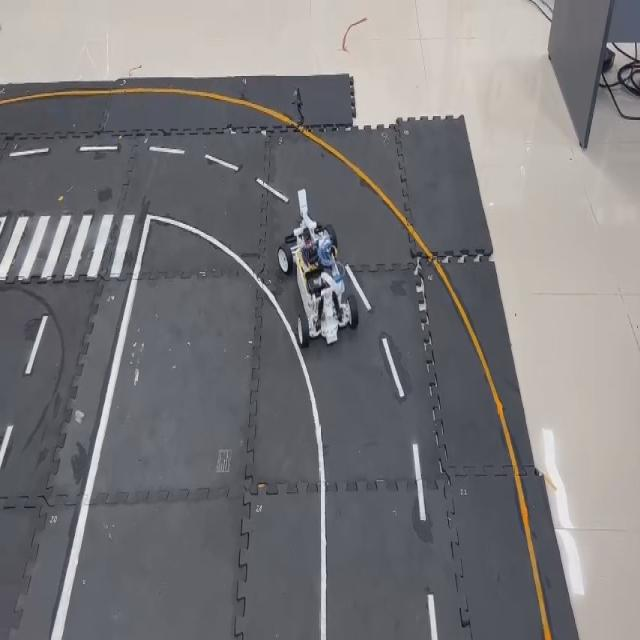SiCo-CAR: (276, 187, 360, 348)
